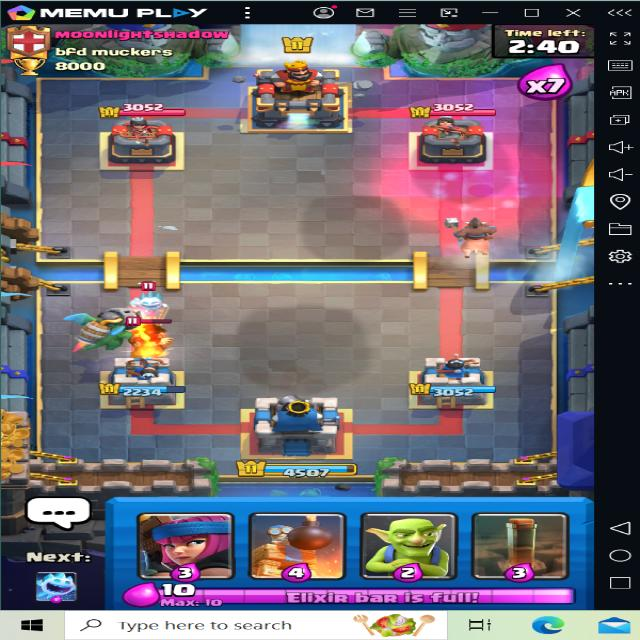ice-spirit: (125, 278, 183, 314)
